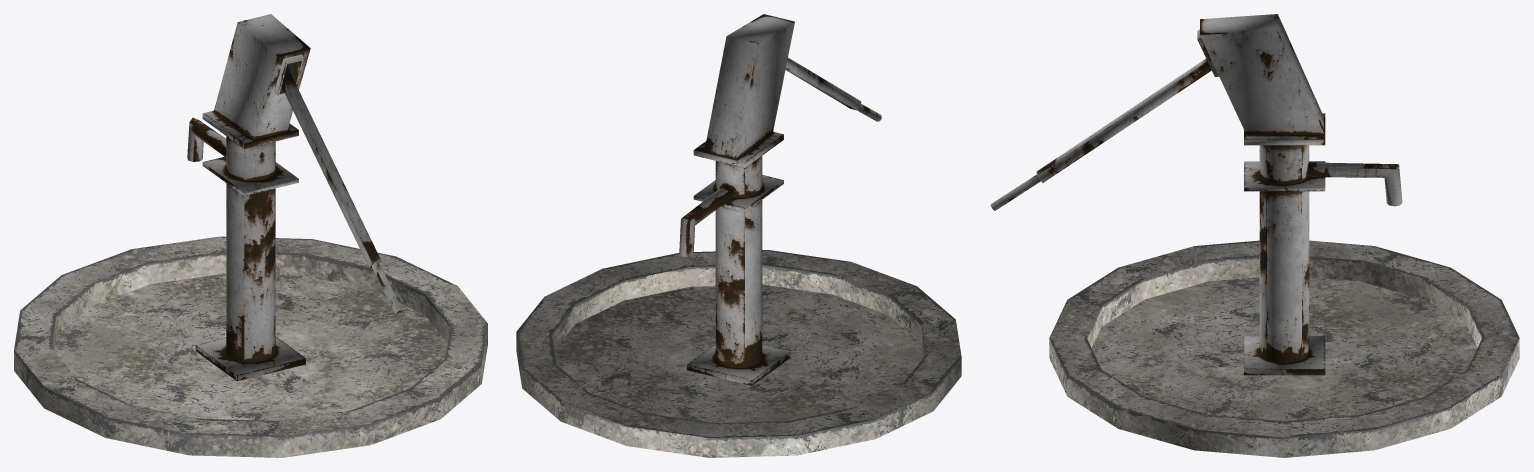
Rendered from handpump_indian_style.obj.
3 renders of one model, left to right at view 1: azimuth 30°, elevation 25°; view 2: azimuth 150°, elevation 25°; view 3: azimuth 270°, elevation 25°, orthographic. The views are drawn at different scales.
Visible parts, largest first — view 1: obj1, obj2; view 2: obj1, obj2; view 3: obj1, obj2.
Boxes of the visible parts, x1=… form: obj1: x1=14, y1=236, x2=487, y2=457; obj2: x1=187, y1=14, x2=402, y2=381; obj1: x1=516, y1=250, x2=961, y2=457; obj2: x1=679, y1=14, x2=881, y2=385; obj1: x1=1049, y1=240, x2=1519, y2=457; obj2: x1=990, y1=14, x2=1402, y2=375.
Bounding box in the file's own units: 457 × 363 × 514.
2 materials, 2 textured.
